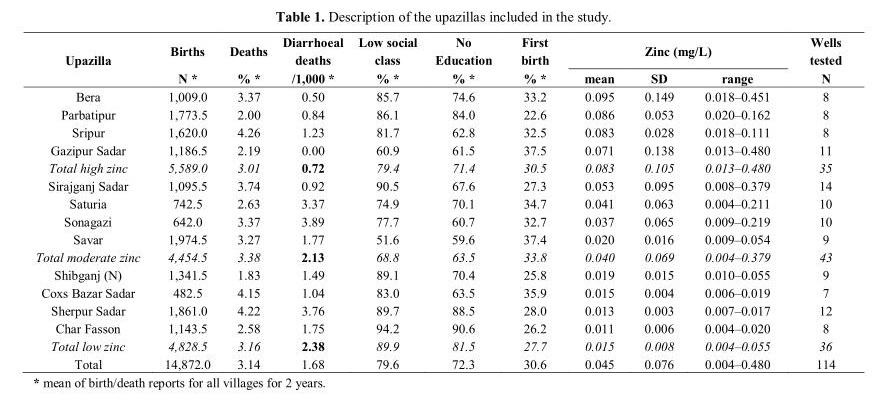table: (34, 34, 841, 370)
table column: (34, 34, 151, 370), (688, 34, 789, 370), (425, 34, 505, 370), (274, 34, 350, 370), (350, 34, 425, 370), (151, 34, 219, 370), (566, 34, 628, 370), (505, 34, 566, 370), (628, 34, 688, 370), (219, 34, 274, 370), (789, 34, 841, 370)
table column header: (34, 34, 841, 87)
table row: (34, 34, 841, 68), (34, 68, 841, 87), (34, 87, 841, 105), (34, 122, 841, 140), (34, 140, 841, 158), (34, 158, 841, 176), (34, 176, 841, 194), (34, 194, 841, 212), (34, 229, 841, 247), (34, 247, 841, 265), (34, 265, 841, 283), (34, 283, 841, 301), (34, 318, 841, 336), (34, 336, 841, 354), (34, 105, 841, 122), (34, 212, 841, 229), (34, 301, 841, 318), (34, 354, 841, 370)
table spanning cell: (566, 34, 789, 68), (34, 34, 151, 87), (425, 34, 505, 87), (274, 34, 350, 87), (350, 34, 425, 87), (151, 34, 219, 87), (505, 34, 566, 87), (219, 34, 274, 87), (789, 34, 841, 87)
